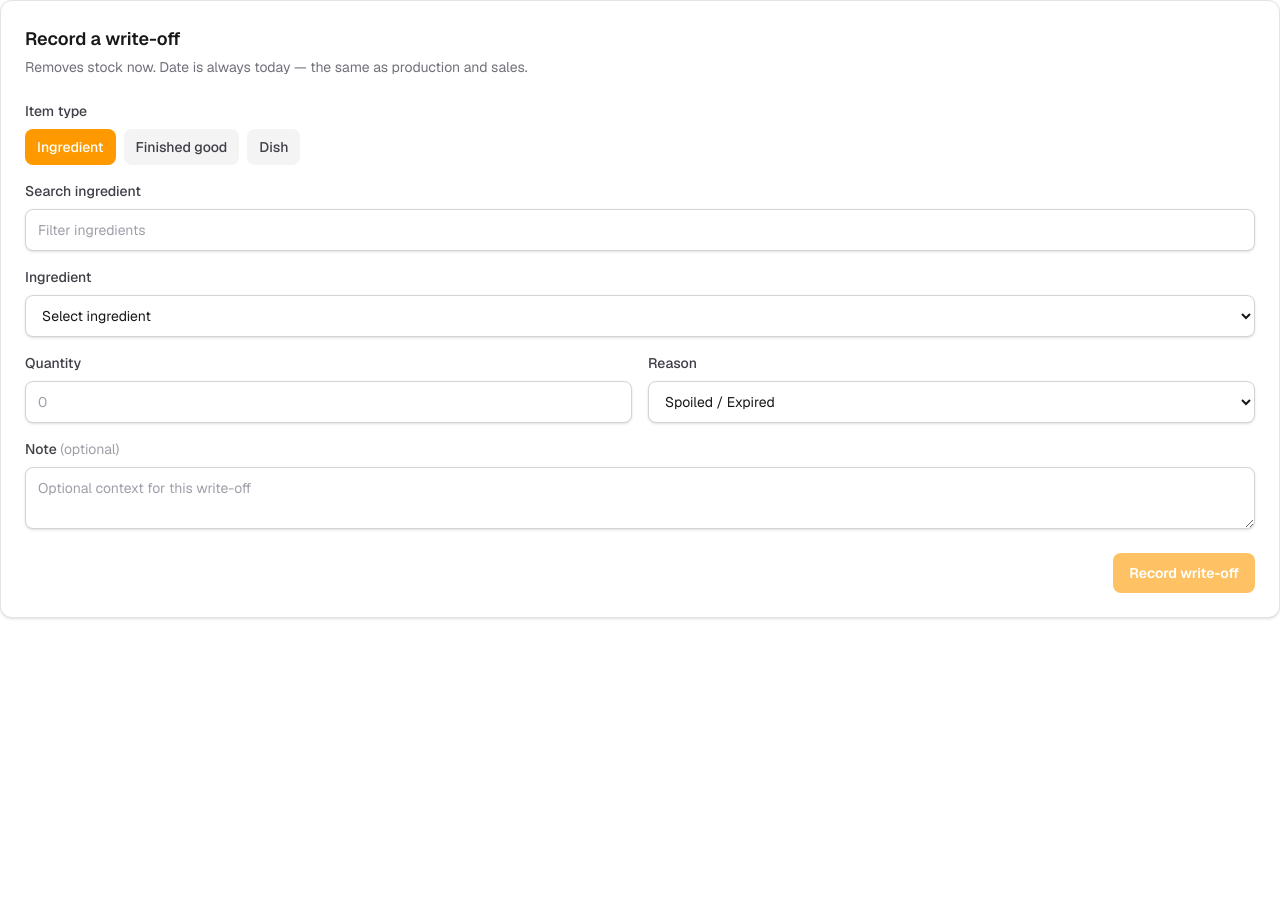
it: WriteOffForm dish › shows the dish picker and hint after Dish is pressed
Click the button "Dish" at (274, 147), box [247,129,300,165]
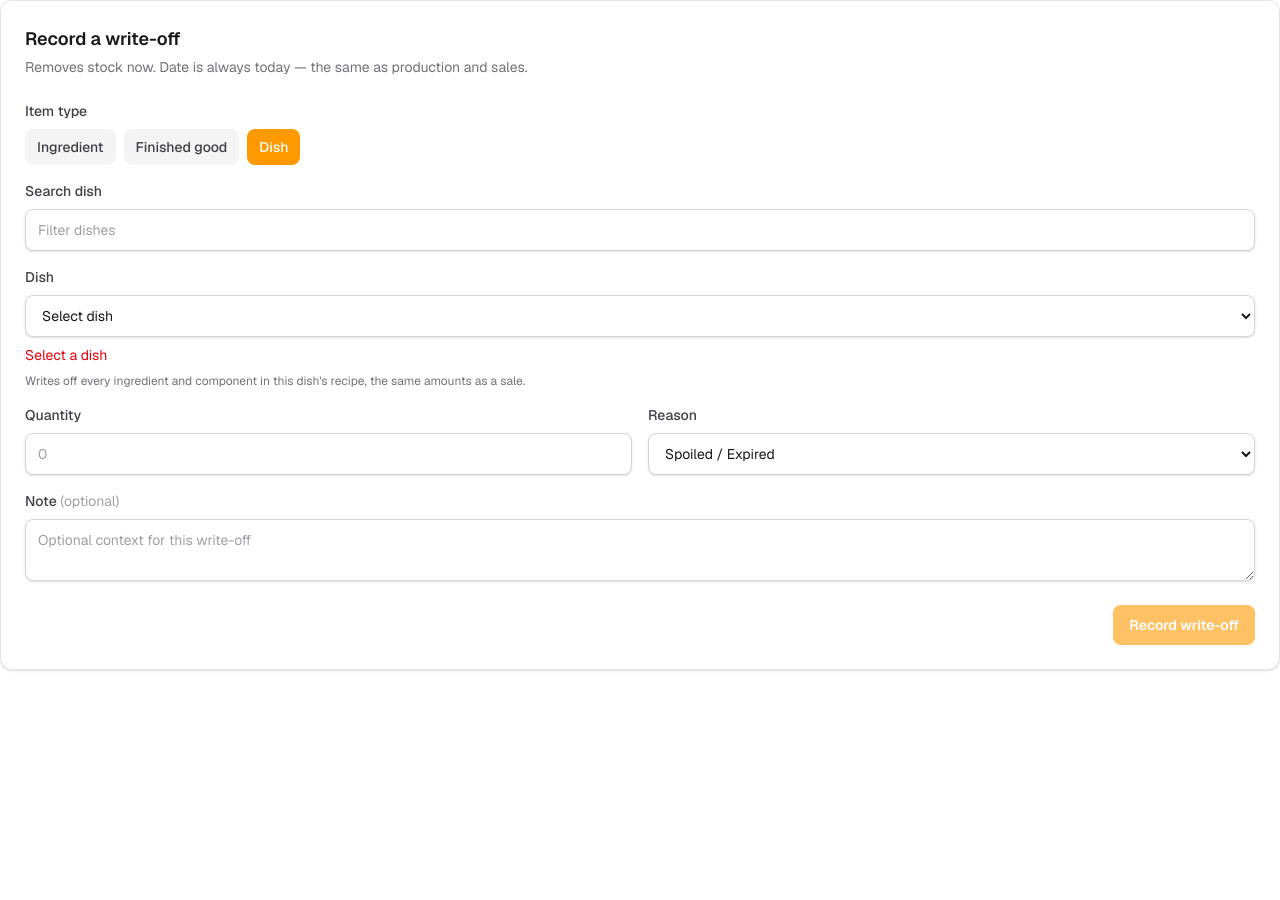
Expected: the text "Writes off every ingredient and component in this dish's recipe, the same amounts as a sale." is shown, [25,373,525,389]
Expected: the search field with placeholder "Filter dishes" is shown, [25,209,1255,251]
